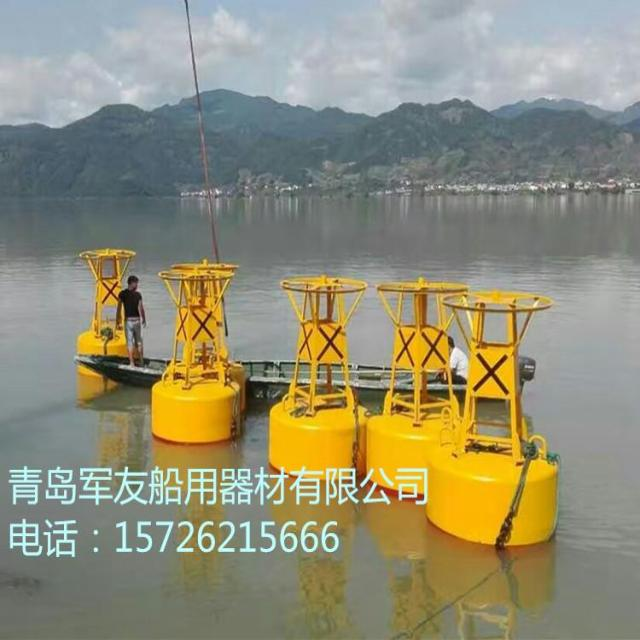buoy: (430, 288, 562, 545), (370, 274, 472, 493), (268, 268, 370, 473), (152, 257, 243, 442), (77, 244, 141, 372)
